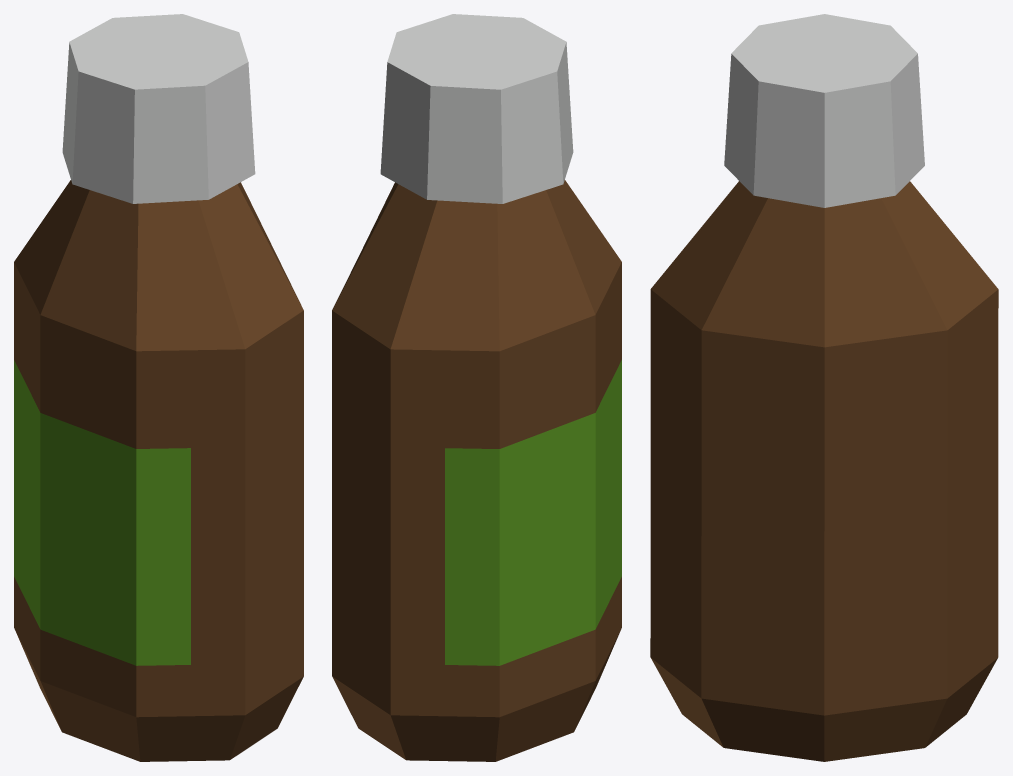
File: Syrup_3D.glb
3 renders of one model, left to right at view 1: azimuth 30°, elevation 25°; view 2: azimuth 150°, elevation 25°; view 3: azimuth 270°, elevation 25°, orthographic.
Visible parts, largest first — view 1: syrup (1); view 2: syrup (1); view 3: syrup (1).
Part boxes in pixels (left/top/right/bottom): syrup (1): left=14, top=14, right=303, bottom=761; syrup (1): left=332, top=14, right=621, bottom=761; syrup (1): left=650, top=14, right=998, bottom=761.
Size of the model in its own units: 0.0587 by 0.1553 by 0.0741.
Materials: 1 (1 with a texture image).
